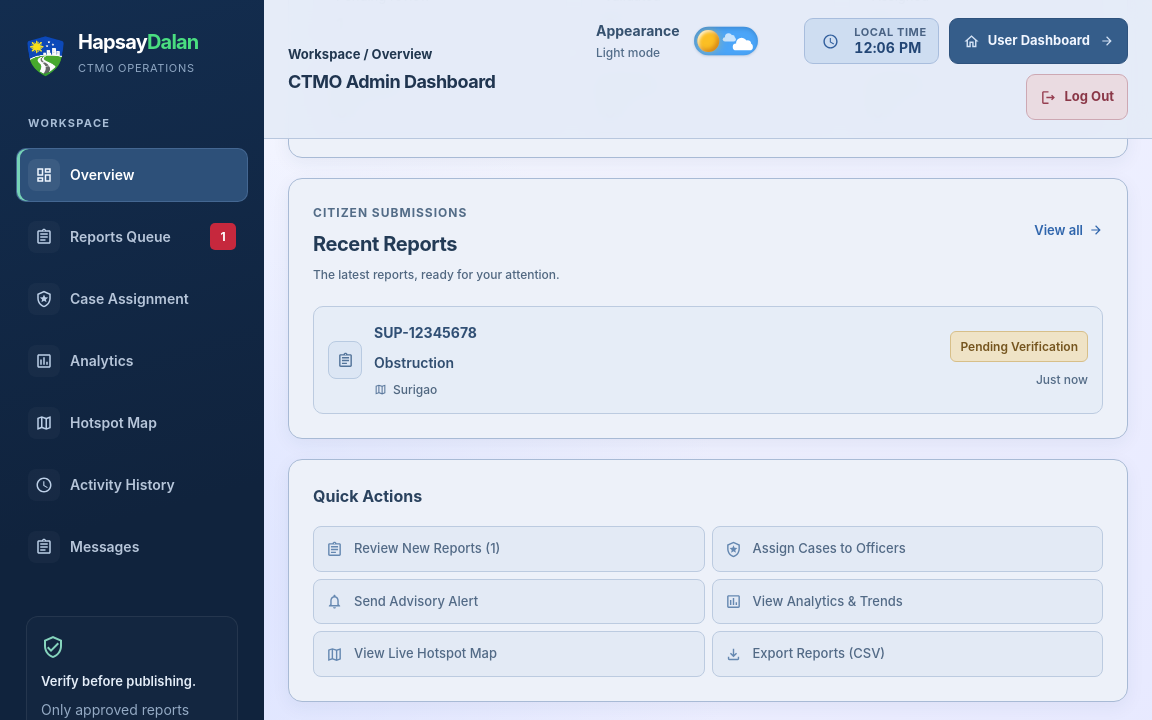
Test case: private admin notes are sent with the saved review and activity has a dedicated tab
This screenshot has width=1152, height=720.
(page scrolled)
Expected: the text "SUP-12345678" is shown, x1=374 y1=324 x2=477 y2=342
Click the button "SUP-12345678": click(345, 360) x1=313 y1=306 x2=1103 y2=414
(page scrolled)
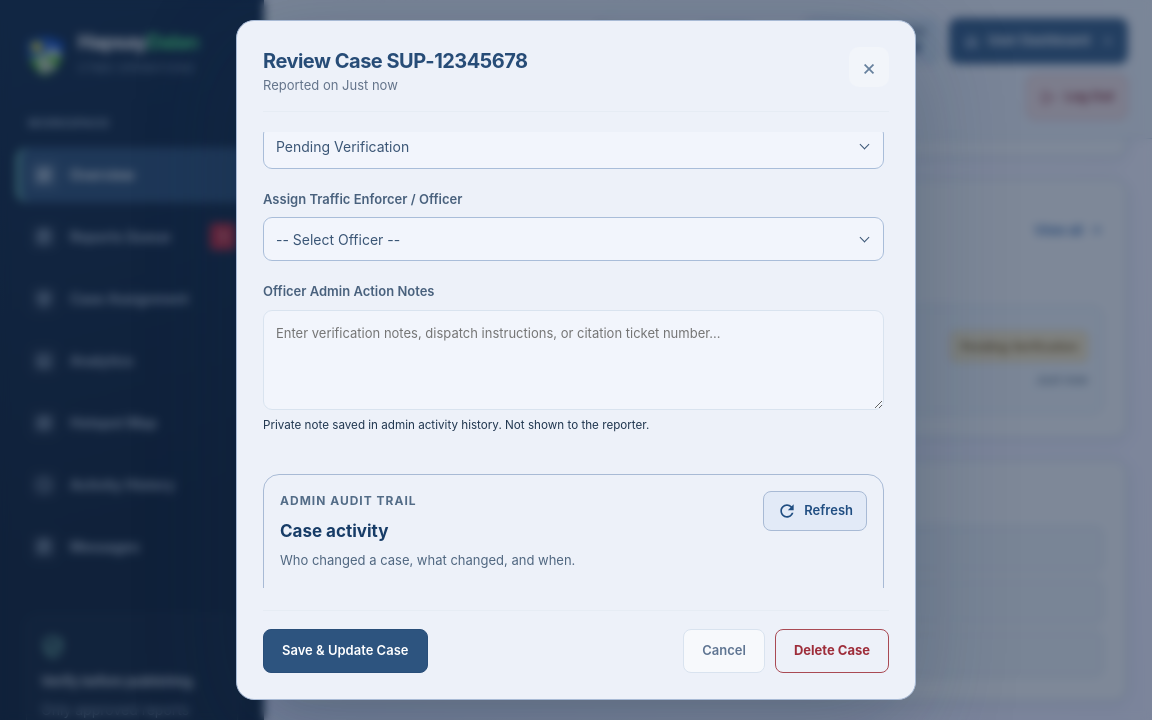
Replace the text in the text box labelled "Officer Admin Action Notes" with "  Checked original photo.  ": (574, 360) x1=263 y1=310 x2=884 y2=410
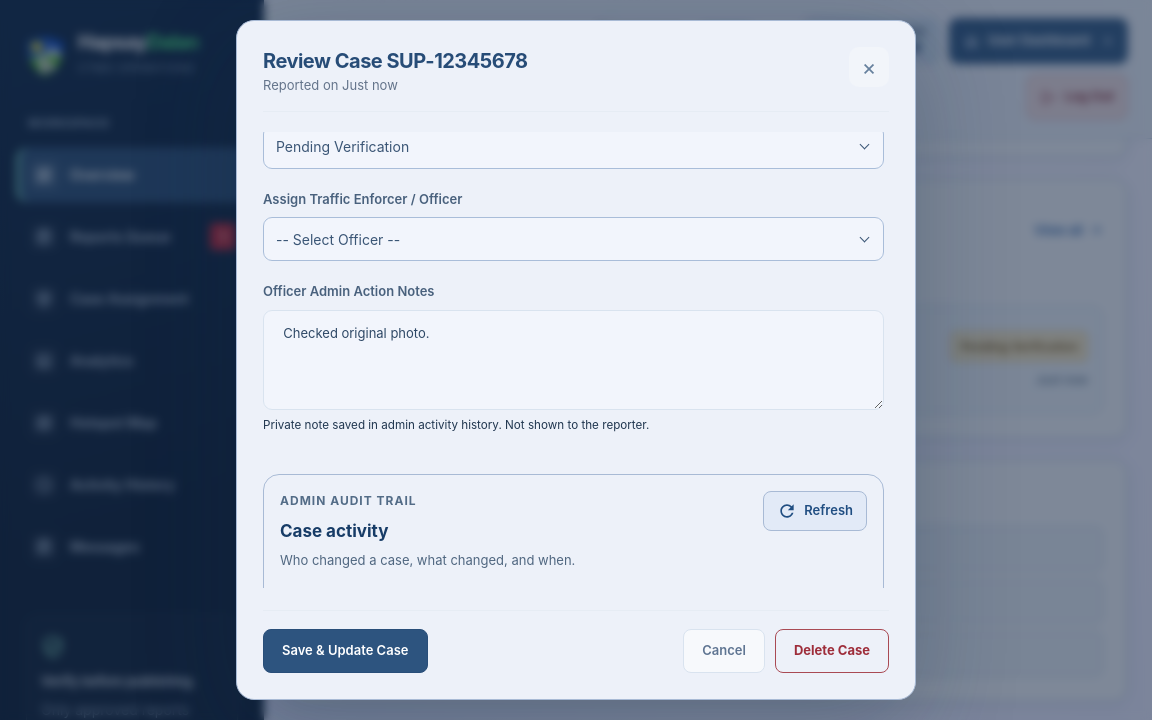
Click the button "Save & Update Case": click(345, 651) x1=263 y1=629 x2=428 y2=673
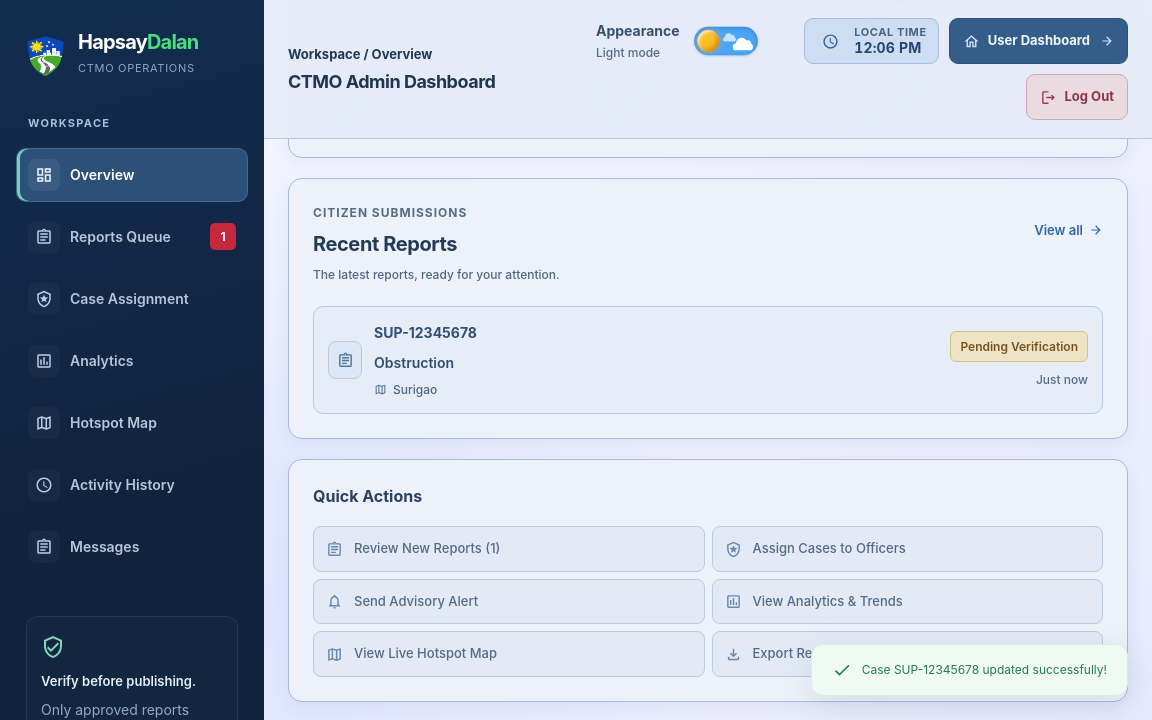
Click the button "Activity History": click(132, 485) x1=16 y1=458 x2=248 y2=512
(page scrolled)
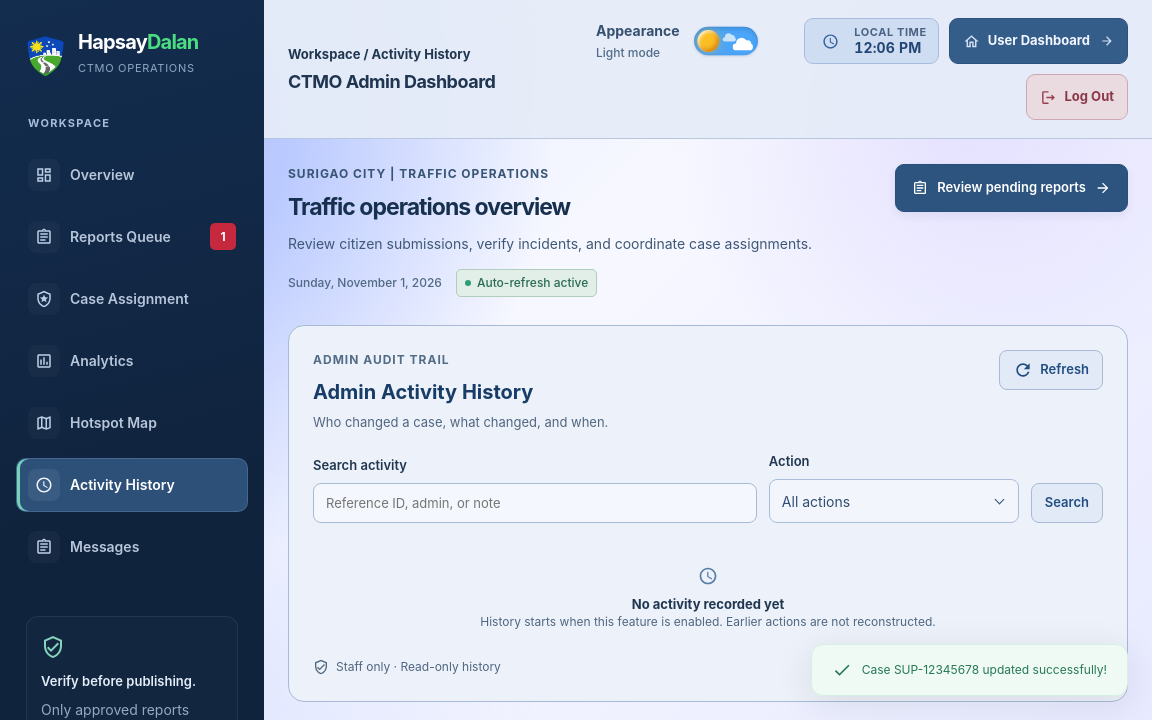
Expected: the element "Admin Activity History" is shown, x1=288 y1=325 x2=1128 y2=702
